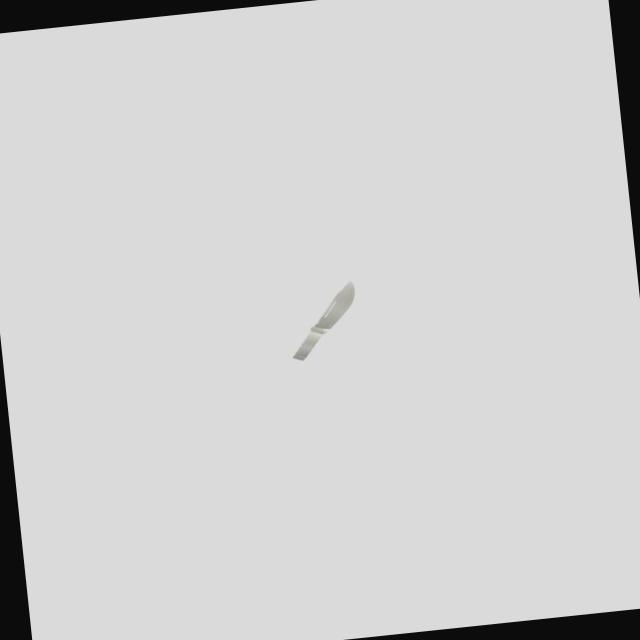knife: (290, 327, 328, 360)
